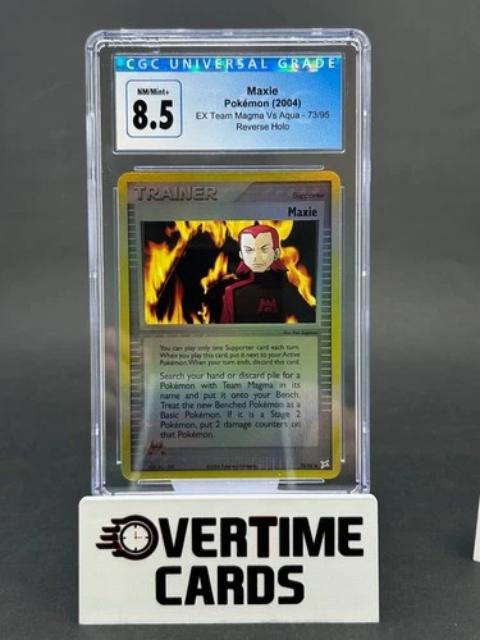Card: (111, 167, 345, 485)
Name: (277, 202, 325, 221)
